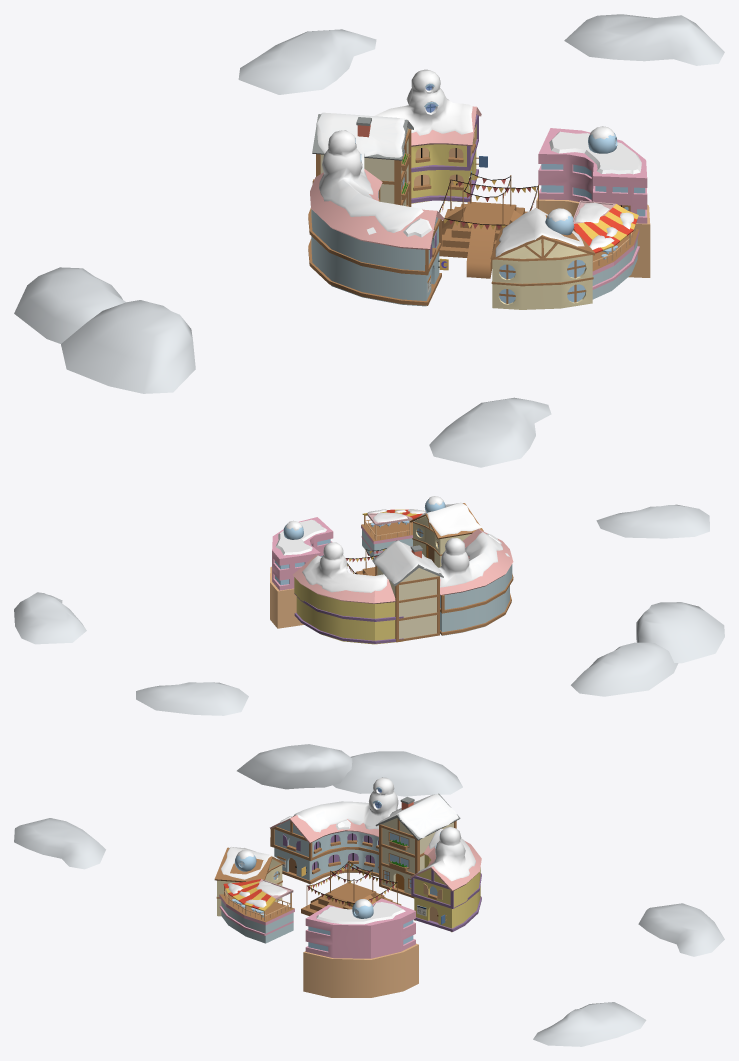
The model's file is Neighborhood_NothingHappeningHereSquare_02.fbx.
3 renders of one model, top to bottom at view 1: azimuth 30°, elevation 25°; view 2: azimuth 150°, elevation 25°; view 3: azimuth 270°, elevation 25°, orthographic. The views are drawn at different scales.
Visible parts, largest first — view 1: Building_Lounge, Building_Hotel2, SnowPatch3, Building_House_2IglooStack2, Building_ModernHotel, SnowPatch6, SnowPatch5, SnowPatch2, SnowPatch4, Building_Hotel1, Building_Stairs, Building_House_2IglooStack3 (+2 smaller); view 2: Building_Lounge, Building_Hotel1, Building_Hotel2, SnowPatch3, SnowPatch4, Building_House_2IglooStack2, SnowPatch5, SnowPatch2, Building_ModernHotel, SnowPatch6, Building_House_2IglooStack3, polySurface158 (+1 smaller); view 3: Building_ModernHotel, Building_Lounge, Building_Hotel2, Building_House_2IglooStack2, SnowPatch4, SnowPatch3, Building_Hotel1, SnowPatch6, SnowPatch2, SnowPatch5, Building_House_2IglooStack3, Building_Stairs (+2 smaller).
Boxes of the visible parts, x1,y1,x2,y2 form: Building_Lounge: (312, 114, 639, 309); Building_Hotel2: (308, 169, 448, 306); SnowPatch3: (61, 300, 195, 393); Building_House_2IglooStack2: (316, 112, 434, 237); Building_ModernHotel: (536, 128, 650, 277); SnowPatch6: (564, 14, 724, 65); SnowPatch5: (238, 29, 376, 94); SnowPatch2: (429, 397, 551, 467); SnowPatch4: (14, 267, 125, 343); Building_Hotel1: (411, 106, 487, 203); Building_Stairs: (439, 201, 527, 278); Building_House_2IglooStack3: (374, 69, 472, 135); Building_Lounge: (361, 503, 483, 642); Building_Hotel1: (293, 554, 403, 644); Building_Hotel2: (440, 528, 513, 635); SnowPatch3: (636, 602, 724, 663); SnowPatch4: (571, 642, 678, 696); Building_House_2IglooStack2: (374, 532, 509, 587); SnowPatch5: (136, 682, 248, 715); SnowPatch2: (596, 504, 709, 538); Building_ModernHotel: (270, 517, 333, 628); SnowPatch6: (14, 592, 86, 644); Building_House_2IglooStack3: (302, 542, 387, 592); polySurface158: (367, 502, 482, 536); Building_ModernHotel: (303, 898, 418, 997); Building_Lounge: (214, 793, 460, 943); Building_Hotel2: (270, 815, 378, 884); Building_House_2IglooStack2: (280, 777, 458, 838); SnowPatch4: (333, 751, 462, 796); SnowPatch3: (237, 744, 352, 789); Building_Hotel1: (410, 840, 481, 932); SnowPatch6: (533, 1002, 646, 1046); SnowPatch2: (14, 818, 105, 869); SnowPatch5: (638, 903, 724, 956); Building_House_2IglooStack3: (418, 827, 475, 881); Building_Stairs: (301, 882, 401, 915).
Bounding box in the file's own units: 6034 × 1178 × 6172.
